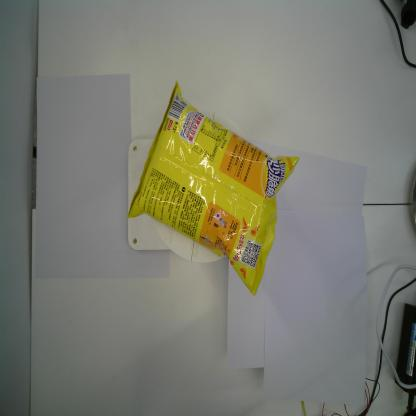Puffed Food: (124, 78, 302, 301)
